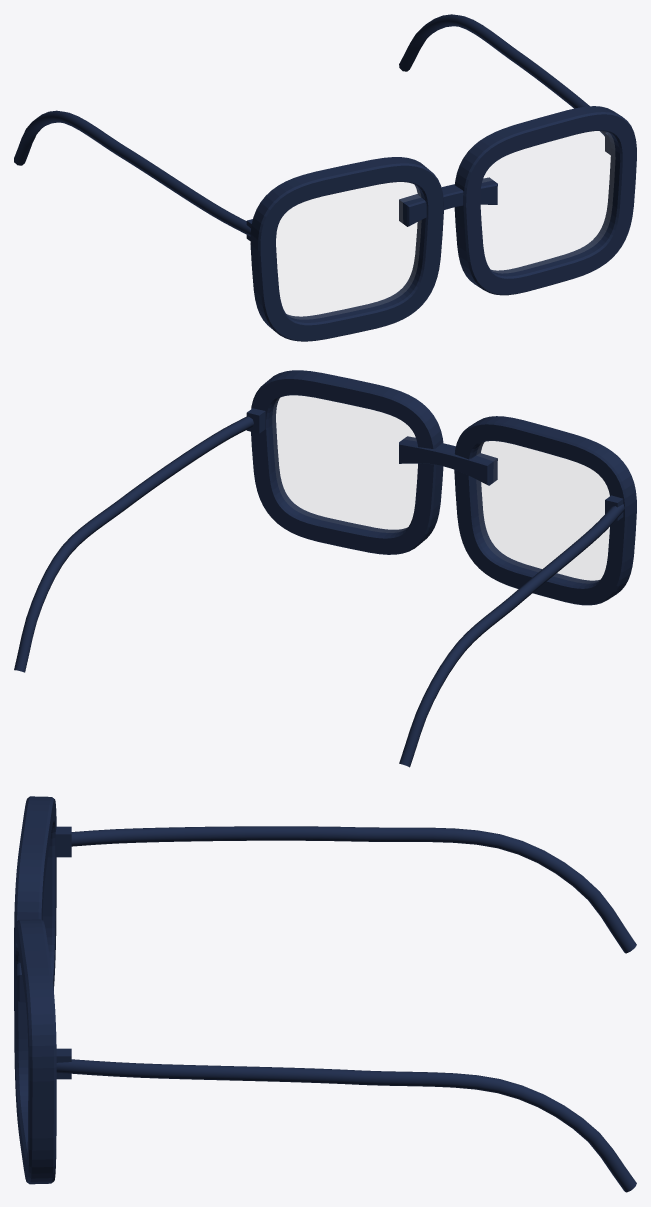
File: NY-M02_Brook_Navy.glb
3 renders of one model, top to bottom at view 1: azimuth 30°, elevation 25°; view 2: azimuth 150°, elevation 25°; view 3: azimuth 270°, elevation 25°, orthographic. The views are drawn at different scales.
Visible parts, largest first — view 1: Brook_Navy_Acetate, Brook_Navy_Lenses; view 2: Brook_Navy_Acetate, Brook_Navy_Lenses; view 3: Brook_Navy_Acetate.
Part boxes in pixels (box(x1,y1,x2,y2)): Brook_Navy_Acetate: box(14, 14, 636, 341); Brook_Navy_Lenses: box(276, 131, 614, 318); Brook_Navy_Acetate: box(14, 370, 636, 767); Brook_Navy_Lenses: box(273, 396, 609, 582); Brook_Navy_Acetate: box(14, 796, 636, 1192).
Bounding box in the file's own units: 0.1508 × 0.0576 × 0.1579.
